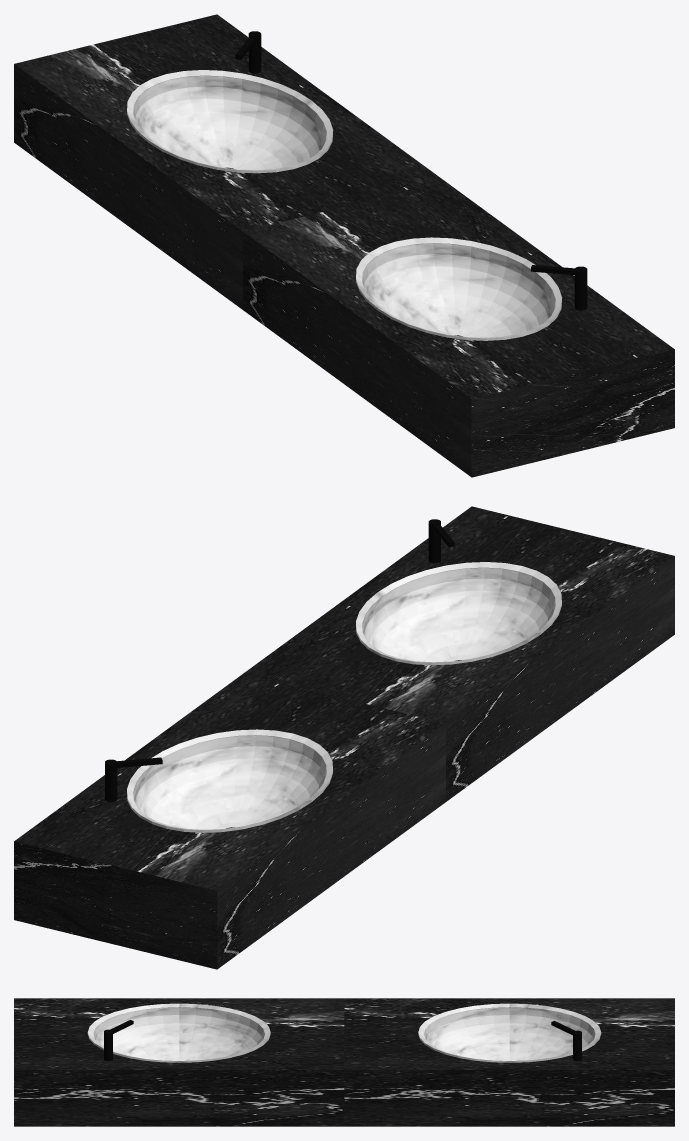
Rendered from kranen.gltf.
The picture shows the model from 3 angles, top to bottom: view 1: azimuth 30°, elevation 25°; view 2: azimuth 150°, elevation 25°; view 3: azimuth 270°, elevation 25°; orthographic projection. The views are drawn at different scales.
Parts seen in each view (by area): view 1: Cube; view 2: Cube; view 3: Cube, Cylinder.001, Cylinder.
Part boxes in pixels (bbox=[...]): Cube: bbox=[14, 14, 674, 477]; Cube: bbox=[14, 506, 674, 969]; Cube: bbox=[14, 998, 674, 1126]; Cylinder.001: bbox=[104, 1029, 112, 1061]; Cylinder: bbox=[573, 1030, 581, 1061].
Size of the model in its own units: 2.65 by 1.47 by 10.35.
Materials: 4 (2 with a texture image).
